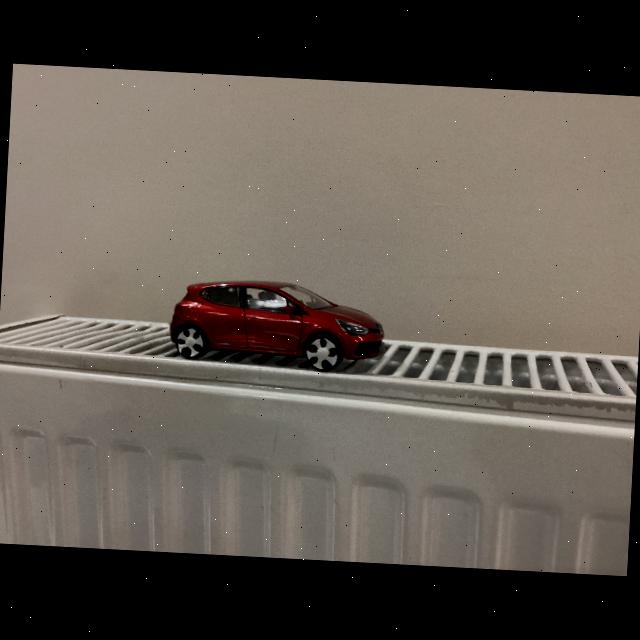Yanlis_Jant: (305, 336, 340, 370), (174, 327, 205, 358)
